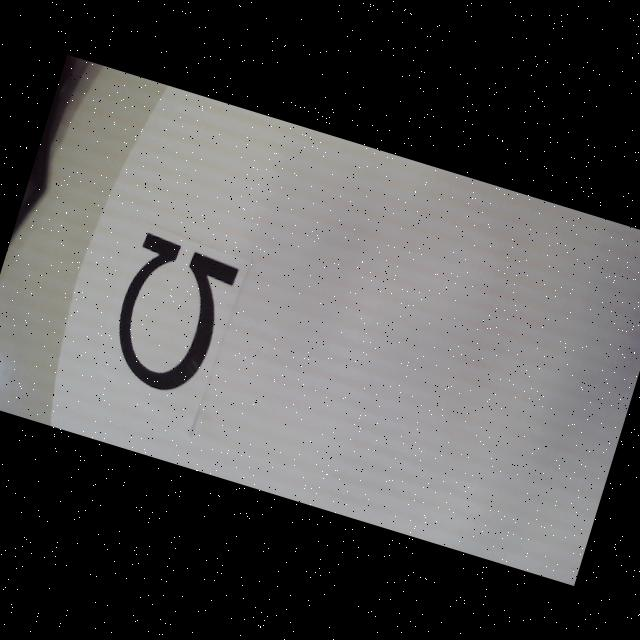OMEGA: (100, 230, 241, 402)
